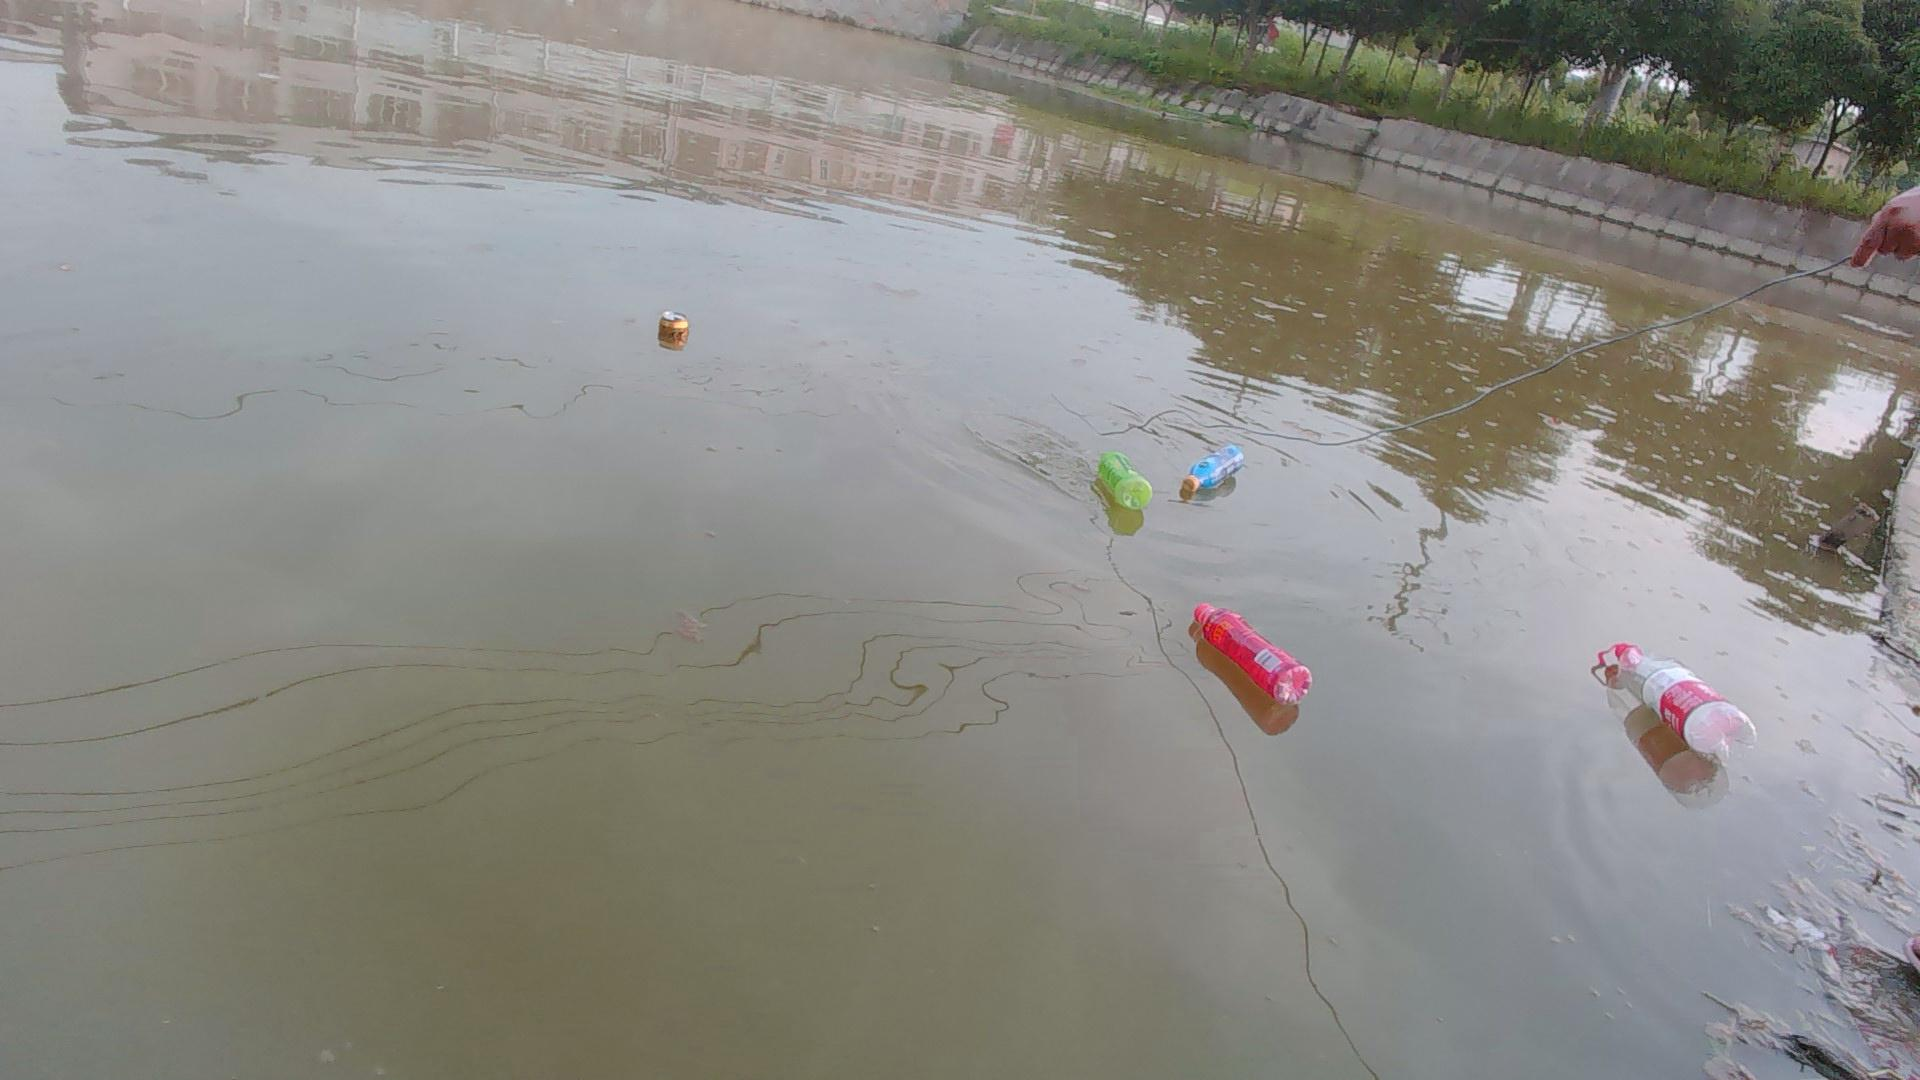Metal: (653, 305, 692, 355)
Plastic: (1588, 630, 1764, 767), (1188, 597, 1320, 703), (1092, 439, 1158, 516), (1178, 434, 1251, 496)
